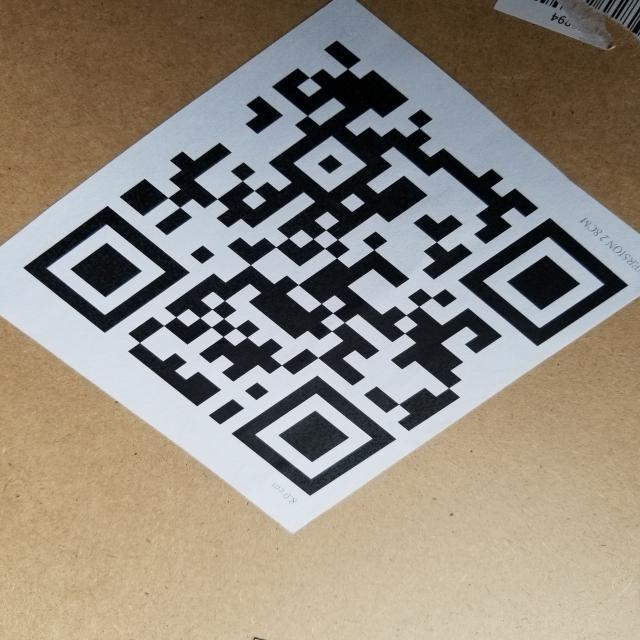qr-code: (9, 32, 636, 510)
